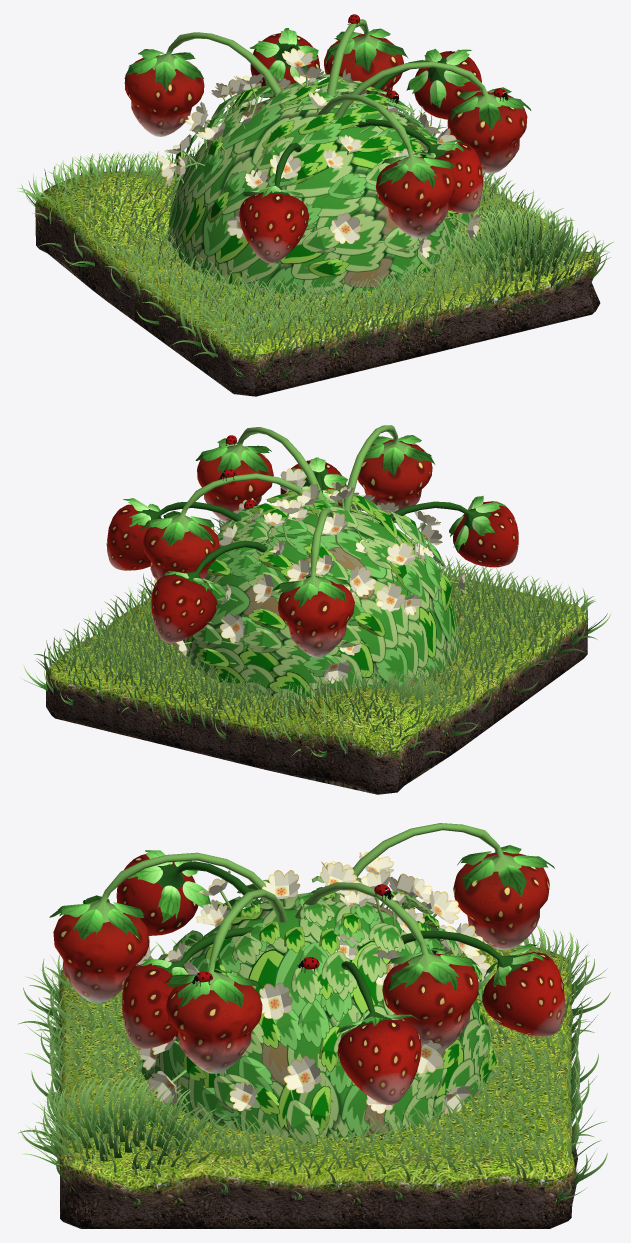
The model's file is strawberry_plant_pbr.glb.
The picture shows the model from 3 angles, top to bottom: view 1: azimuth 30°, elevation 25°; view 2: azimuth 150°, elevation 25°; view 3: azimuth 270°, elevation 25°; orthographic projection. The views are drawn at different scales.
Parts seen in each view (by area): view 1: ground.002, bush.hemi, grass.converted, grass.converted.001, flowers (×2), strawbs_dark.003 (×2), strawbs_dark.001 (×2), strawbs_dark.000 (×2), bush_leaves_darker, bush_leaves_green, strawbs.003, bush_leaves (+4 smaller); view 2: ground.002, grass.converted, bush.hemi, grass.converted.001, flowers, strawbs_dark.003 (×2), strawbs_dark.001 (×2), strawbs_dark.002 (×2), bush_leaves, strawbs_dark.000 (×2), bush_leaves_green, strawbs.001 (×2) (+4 smaller); view 3: ground.002, grass.converted, bush.hemi, grass.converted.001, flowers, strawbs_dark.001 (×2), strawbs_dark.003 (×2), bush_leaves, strawbs_dark.000 (×2), strawbs_dark.002 (×2), bush_leaves_green, strawbs.001 (×2) (+4 smaller).
Part boxes in pixels (box(x1,y1,x2,y2)): ground.002: box(35, 126, 600, 396); bush.hemi: box(168, 91, 458, 294); grass.converted: box(16, 98, 614, 369); grass.converted.001: box(32, 128, 610, 376); flowers (×2): box(157, 48, 481, 258); strawbs_dark.003 (×2): box(124, 32, 288, 136); strawbs_dark.001 (×2): box(317, 94, 455, 238); strawbs_dark.000 (×2): box(334, 61, 531, 173); bush_leaves_darker: box(176, 77, 458, 276); bush_leaves_green: box(176, 79, 469, 230); strawbs.003: box(239, 186, 308, 263); bush_leaves: box(174, 74, 420, 253); ground.002: box(46, 573, 588, 794); grass.converted: box(23, 503, 594, 756); bush.hemi: box(183, 505, 460, 698); grass.converted.001: box(54, 519, 611, 757); flowers: box(154, 468, 466, 683); strawbs_dark.003 (×2): box(272, 507, 354, 657); strawbs_dark.001 (×2): box(343, 425, 435, 513); strawbs_dark.002 (×2): box(139, 473, 302, 580); bush_leaves: box(192, 491, 446, 652); strawbs_dark.000 (×2): box(195, 427, 325, 522); bush_leaves_green: box(207, 496, 443, 676); strawbs.001 (×2): box(151, 540, 267, 643); ground.002: box(59, 944, 577, 1228); grass.converted: box(18, 923, 610, 1204); bush.hemi: box(141, 892, 491, 1137); grass.converted.001: box(20, 941, 594, 1202); flowers: box(135, 852, 491, 1113); strawbs_dark.001 (×2): box(49, 852, 283, 1003); strawbs_dark.003 (×2): box(331, 823, 554, 950); bush_leaves: box(158, 876, 490, 1145); strawbs_dark.000 (×2): box(164, 889, 287, 1073); strawbs_dark.002 (×2): box(295, 882, 478, 1049); bush_leaves_green: box(173, 887, 485, 1123); strawbs.001 (×2): box(401, 930, 564, 1036).
Bounding box in the file's own units: 25.97 × 13.08 × 26.03.
12 materials, 11 textured.
